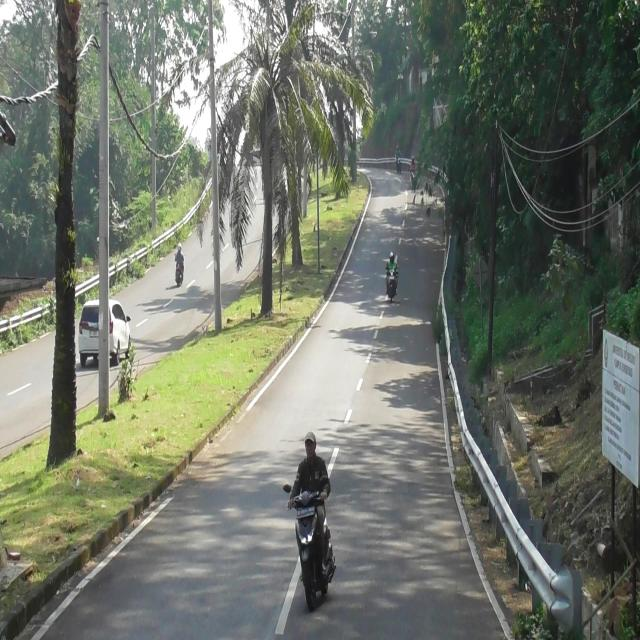motorcycle: (286, 477, 338, 609), (386, 268, 396, 303), (174, 262, 184, 287)
person: (288, 431, 329, 572), (386, 252, 399, 273), (175, 243, 184, 270)
rider_region: (288, 427, 338, 608), (172, 238, 186, 291), (386, 252, 399, 300)
